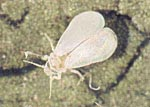whitefly: (24, 10, 117, 99)
